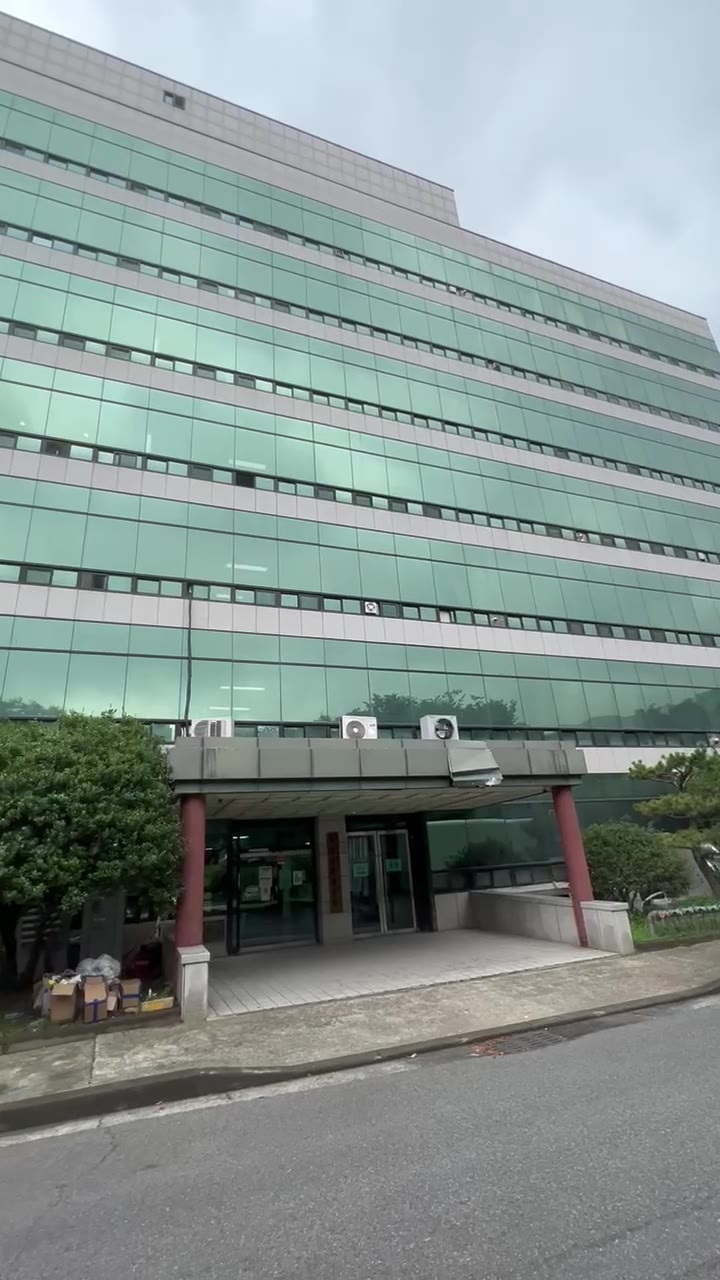low: (32, 92, 524, 722)
